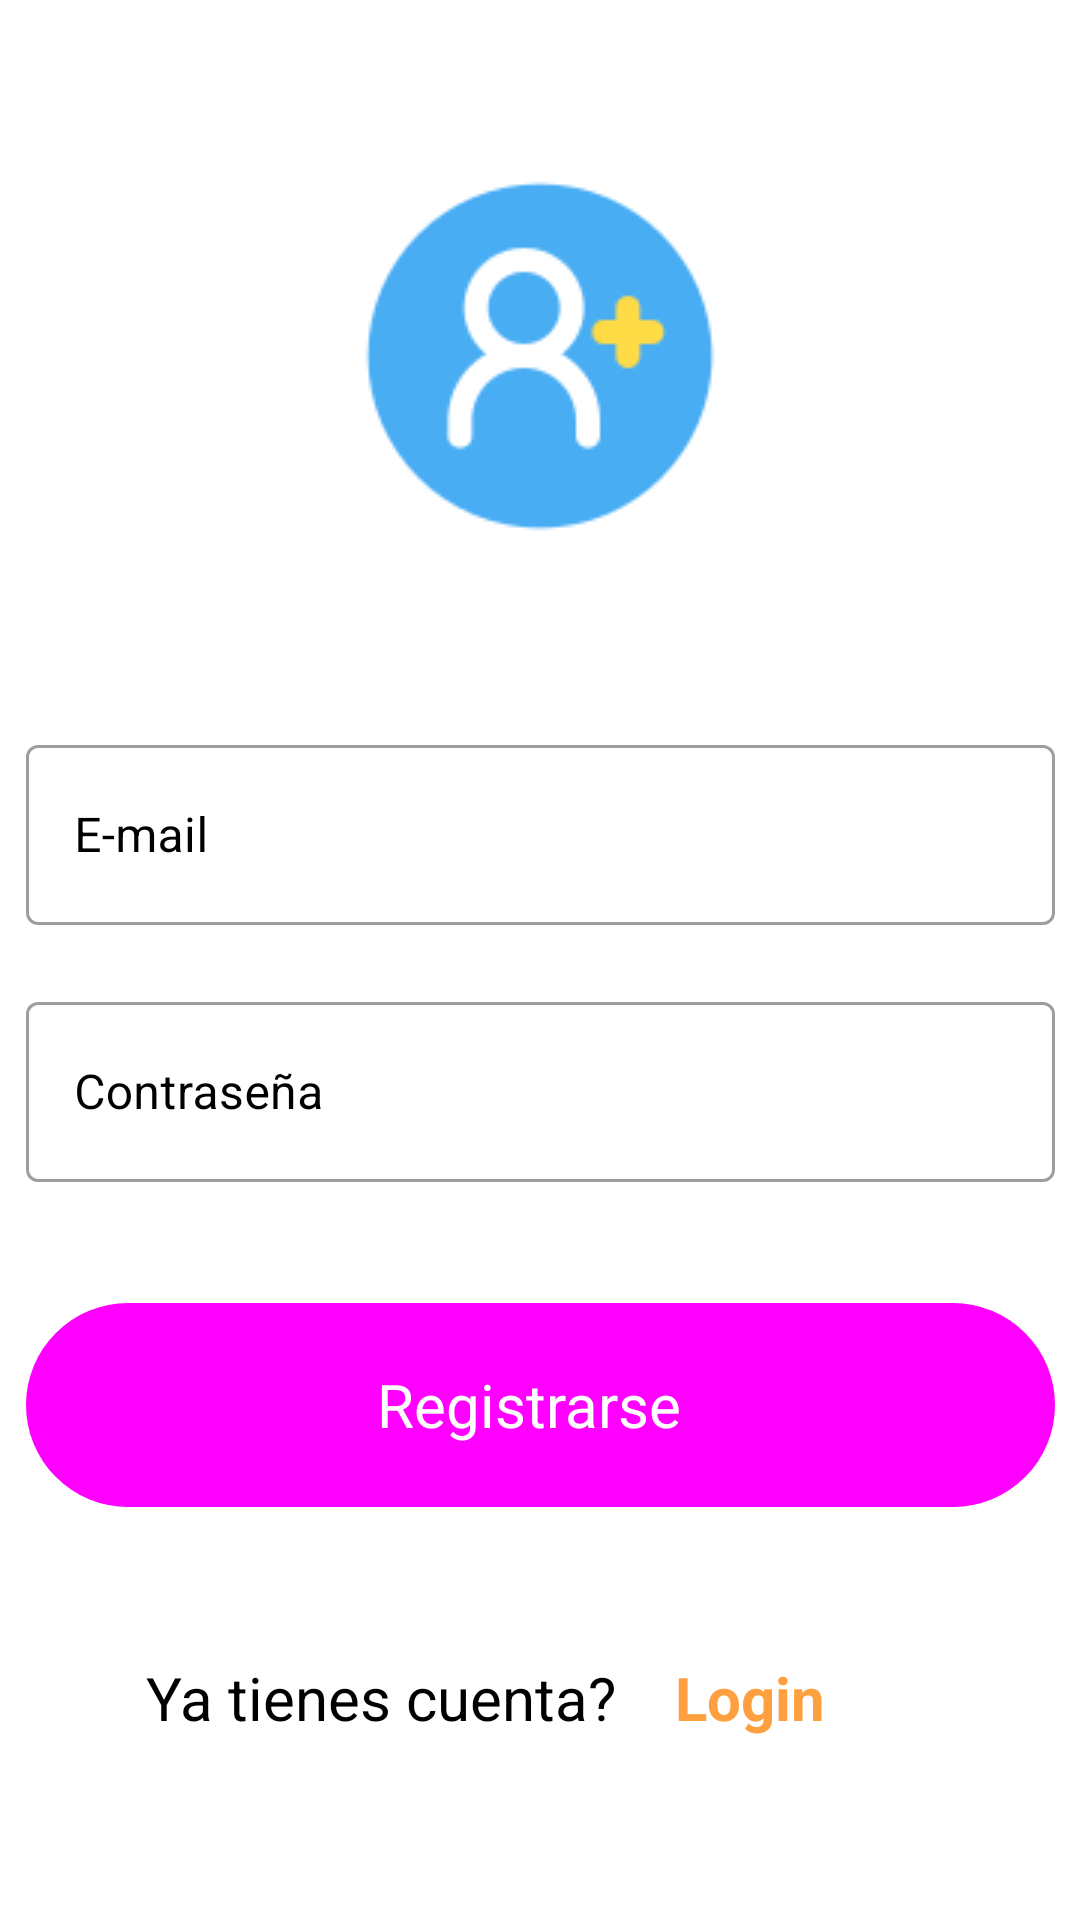

Named icons in this screenshot (1080×1920) and their bounding boxes, (x1, y1, x2, y2):
user: (366, 182, 714, 530)
